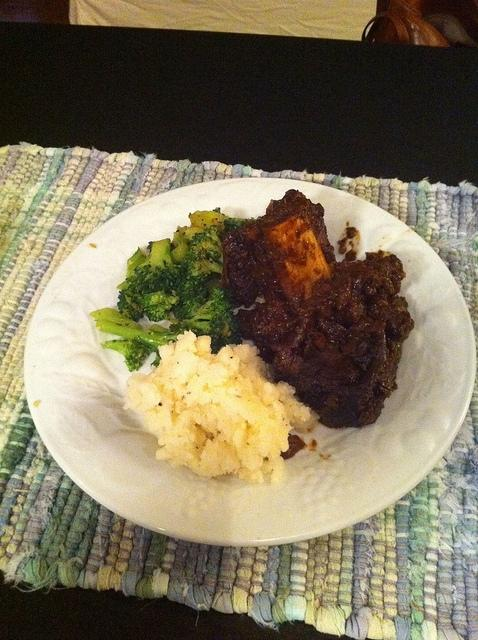broccoli: (124, 238, 186, 304), (95, 319, 204, 348), (184, 288, 240, 338), (174, 276, 224, 322), (102, 340, 152, 371), (141, 290, 180, 323), (90, 308, 144, 330), (185, 260, 223, 284), (202, 223, 222, 250)
